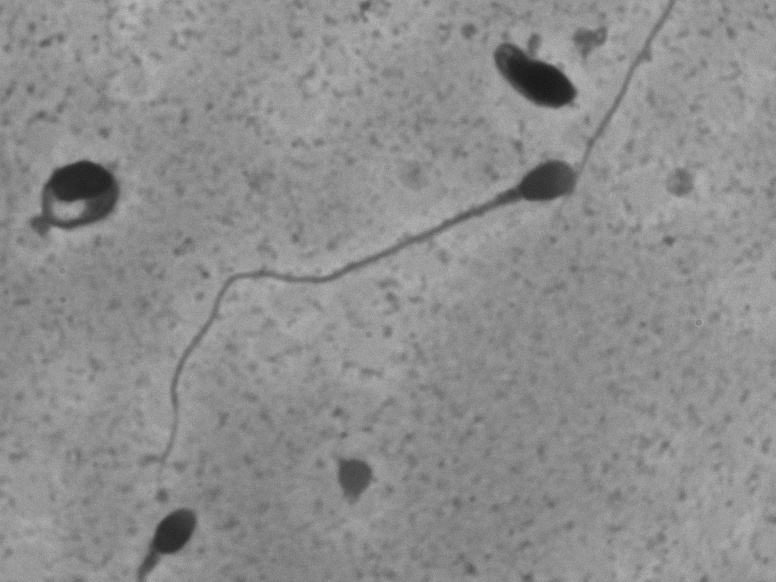Abnormal: (3, 134, 132, 242)
Normal: (143, 146, 583, 520)
